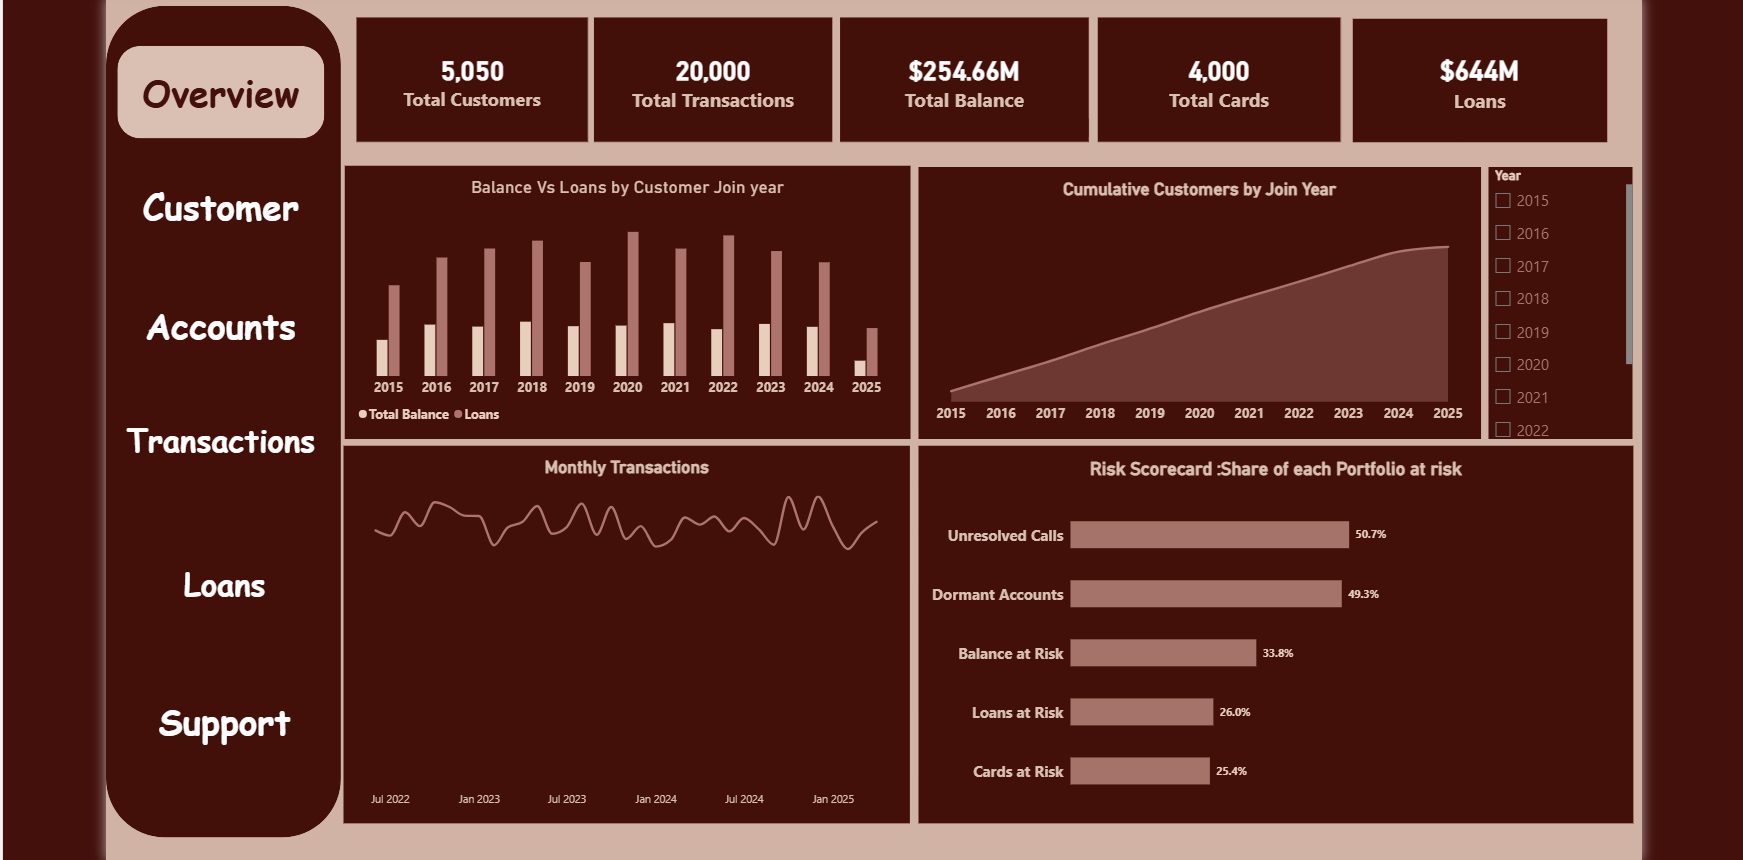

Layout of this report page (visuals, bound fields, positions):
{"tool":"powerbi","page":{"name":"OverView","canvas":[1920,1080],"ordinal":1},"visuals":[{"type":"advanceCardE03760C5AB684758B56AA29F9E6C257B","fields":{"mainMeasure":["Exec_Measures.Total Customers"]},"box":[297.1,11.4,321.4,185.7],"z":0},{"type":"advanceCardE03760C5AB684758B56AA29F9E6C257B","fields":{"mainMeasure":["Exec_Measures.Total Cards"]},"box":[1222.9,11.4,335.7,185.7],"z":1000},{"type":"advanceCardE03760C5AB684758B56AA29F9E6C257B","fields":{"mainMeasure":["Exec_Measures.Total Balance"]},"box":[901.4,11.4,342.9,185.7],"z":2000},{"type":"advanceCardE03760C5AB684758B56AA29F9E6C257B","fields":{"mainMeasure":["Exec_Measures.Total Loan Amount"]},"box":[1542.9,12.9,350,184.3],"z":3000},{"type":"advanceCardE03760C5AB684758B56AA29F9E6C257B","fields":{"mainMeasure":["Exec_Measures.Total Transaction"]},"box":[594.3,11.4,330,185.7],"z":4000},{"type":"slicer","fields":{"Values":["Calendar.Year"]},"box":[1728.6,212.9,180,340],"z":5000},{"type":"advanceCardE03760C5AB684758B56AA29F9E6C257B","fields":{"mainMeasure":["Exec_Measures.Show Customer"]},"box":[460,142.1,121.4,50],"z":6000},{"type":"advanceCardE03760C5AB684758B56AA29F9E6C257B","fields":{"mainMeasure":["Exec_Measures.Show Transaction"]},"box":[777.9,135,125,55.4],"z":7000},{"type":"advanceCardE03760C5AB684758B56AA29F9E6C257B","fields":{"mainMeasure":["Exec_Measures.Show Balance"]},"box":[1114.3,137.1,130,52.9],"z":8000},{"type":"advanceCardE03760C5AB684758B56AA29F9E6C257B","fields":{"mainMeasure":["Exec_Measures.Show cards"]},"box":[1421.4,134.3,135.7,54.3],"z":9000},{"type":"advanceCardE03760C5AB684758B56AA29F9E6C257B","fields":{"mainMeasure":["Exec_Measures.Show loans"]},"box":[1747.1,134.3,131.4,54.3],"z":10000},{"type":"lineChart","title":"Monthly Transactions","fields":{"Category":["Transactions.Txn Month"],"Y":["Exec_Measures.Total Transaction"]},"box":[296.7,561.7,708.3,471.7],"z":11000},{"type":"clusteredColumnChart","title":"Balance Vs Loans by Customer Join year","fields":{"Category":["Calendar.Year"],"Y":["Exec_Measures.Total Balance","Exec_Measures.Loans"]},"box":[298.6,211.4,707.1,341.4],"z":12000},{"type":"cardVisual","fields":{"Data":["Exec_Measures.Arrow_Customer"]},"box":[412.9,150,58.9,28.6],"z":13000},{"type":"cardVisual","fields":{"Data":["Exec_Measures.Arrow_Transaction"]},"box":[731.4,144.3,58.9,35.7],"z":14000},{"type":"cardVisual","fields":{"Data":["Exec_Measures.Arrow_Balance"]},"box":[1072.9,144.3,64.3,33.9],"z":15000},{"type":"cardVisual","fields":{"Data":["Exec_Measures.Arrow_Cards"]},"box":[1378.6,144.3,60.7,33.9],"z":16000},{"type":"cardVisual","fields":{"Data":["Exec_Measures.Arrow_loans"]},"box":[1685.7,138.6,64.3,40],"z":17000},{"type":"shape","box":[0,11.1,293.7,1039.7],"z":18000},{"type":"textbox","box":[1114.3,455.4,108.9,48.2],"z":19000},{"type":"textbox","box":[292.9,410.7,150,142.9],"z":20000},{"type":"shape","box":[14.5,60.9,258.9,116.1],"z":21000},{"type":"shape","box":[14.3,345.7,258.9,128.6],"z":22000},{"type":"shape","box":[14.3,488.6,258.9,128.6],"z":23000},{"type":"shape","box":[18.8,668.8,258.9,128.6],"z":24000},{"type":"shape","box":[14.3,197.1,258.9,128.6],"z":25000},{"type":"shape","box":[18.8,840.6,258.9,128.6],"z":26000},{"type":"areaChart","title":"Cumulative Customers by Join Year","fields":{"Category":["Calendar.Year"],"Y":["Exec_Measures.Customers to Date"]},"box":[1015.7,212.9,702.9,340],"z":27000},{"type":"clusteredBarChart","title":"Risk Scorecard :Share of each Portfolio at risk","fields":{"Category":["Risk Metrics.Metric"],"Y":["Exec_Measures.Risk Value"]},"box":[1015,561.7,893.3,471.7],"z":28000}]}

Visuals, with their boxes on the page's 1920x1080 design canvas (x1, y1, x2, y2). These are canvas units, not pixel positions in the 1743x860 screenshot, which may show the page scaled, cropped or inside an application window:
advanceCardE03760C5AB684758B56AA29F9E6C257B - Exec_Measures.Total Customers: [297, 11, 618, 197]
advanceCardE03760C5AB684758B56AA29F9E6C257B - Exec_Measures.Total Cards: [1223, 11, 1559, 197]
advanceCardE03760C5AB684758B56AA29F9E6C257B - Exec_Measures.Total Balance: [901, 11, 1244, 197]
advanceCardE03760C5AB684758B56AA29F9E6C257B - Exec_Measures.Total Loan Amount: [1543, 13, 1893, 197]
advanceCardE03760C5AB684758B56AA29F9E6C257B - Exec_Measures.Total Transaction: [594, 11, 924, 197]
slicer - Calendar.Year: [1729, 213, 1909, 553]
advanceCardE03760C5AB684758B56AA29F9E6C257B - Exec_Measures.Show Customer: [460, 142, 581, 192]
advanceCardE03760C5AB684758B56AA29F9E6C257B - Exec_Measures.Show Transaction: [778, 135, 903, 190]
advanceCardE03760C5AB684758B56AA29F9E6C257B - Exec_Measures.Show Balance: [1114, 137, 1244, 190]
advanceCardE03760C5AB684758B56AA29F9E6C257B - Exec_Measures.Show cards: [1421, 134, 1557, 189]
advanceCardE03760C5AB684758B56AA29F9E6C257B - Exec_Measures.Show loans: [1747, 134, 1878, 189]
"Monthly Transactions" lineChart: [297, 562, 1005, 1033]
"Balance Vs Loans by Customer Join year" clusteredColumnChart: [299, 211, 1006, 553]
cardVisual - Exec_Measures.Arrow_Customer: [413, 150, 472, 179]
cardVisual - Exec_Measures.Arrow_Transaction: [731, 144, 790, 180]
cardVisual - Exec_Measures.Arrow_Balance: [1073, 144, 1137, 178]
cardVisual - Exec_Measures.Arrow_Cards: [1379, 144, 1439, 178]
cardVisual - Exec_Measures.Arrow_loans: [1686, 139, 1750, 179]
shape: [0, 11, 294, 1051]
textbox: [1114, 455, 1223, 504]
textbox: [293, 411, 443, 554]
shape: [14, 61, 273, 177]
shape: [14, 346, 273, 474]
shape: [14, 489, 273, 617]
shape: [19, 669, 278, 797]
shape: [14, 197, 273, 326]
shape: [19, 841, 278, 969]
"Cumulative Customers by Join Year" areaChart: [1016, 213, 1719, 553]
"Risk Scorecard :Share of each Portfolio at risk" clusteredBarChart: [1015, 562, 1908, 1033]
